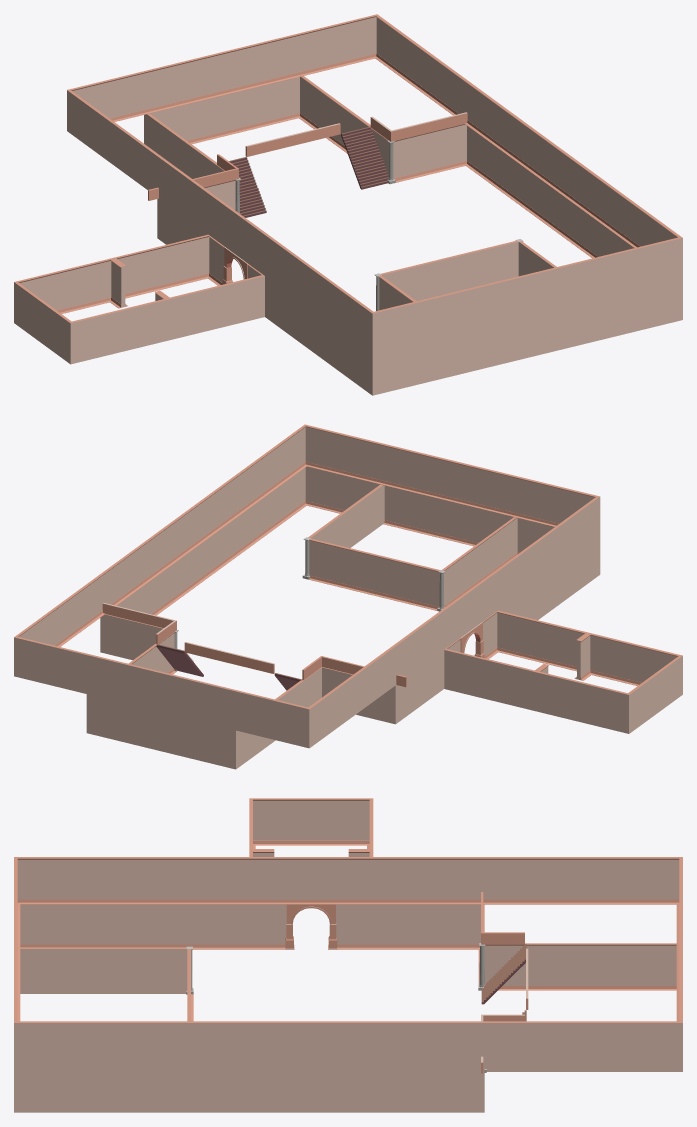
File: GalleryWalls.glb
The picture shows the model from 3 angles, top to bottom: view 1: azimuth 30°, elevation 25°; view 2: azimuth 150°, elevation 25°; view 3: azimuth 270°, elevation 25°; orthographic projection. The views are drawn at different scales.
Parts seen in each view (by area): view 1: Stairs3.001, WallBig1.167, WallBig1.085, WallBig1.012, WallBigCorner1.007, WallBigCorner1.006, WallBigCorner1.014, WallBigCorner1.011, WallBigCorner1.012, WallBigCorner1.009, WallBigCorner1.004, Railing2.009 (+73 smaller); view 2: WallBigCorner1.013, WallBig1.167, WallBig1.085, WallBig1.010, WallBigCorner1.008, WallBigCorner1.005, WallBigCorner1.010, WallBig1.012, Railing2.005, Railing2.009, WallBigCorner1.002, WallBigCorner1.006 (+78 smaller); view 3: WallBig1.010, WallBig1.012, WallBig1.020, WallBig1.066, WallBig1.067, WallBig1.144, WallBig1.145, WallBig1.148, WallBig1.151, WallBig1.152, WallBig1.155, WallBig1.158 (+99 smaller).
Boxes of the visible parts, x1=… form: Stairs3.001: x1=341, y1=126, x2=388, y2=189; WallBig1.167: x1=645, y1=229, x2=682, y2=287; WallBig1.085: x1=647, y1=279, x2=682, y2=328; WallBig1.012: x1=191, y1=231, x2=224, y2=285; WallBigCorner1.007: x1=59, y1=314, x2=90, y2=364; WallBigCorner1.006: x1=93, y1=258, x2=123, y2=308; WallBigCorner1.014: x1=361, y1=305, x2=391, y2=354; WallBigCorner1.011: x1=361, y1=347, x2=391, y2=395; WallBigCorner1.012: x1=358, y1=14, x2=388, y2=64; WallBigCorner1.009: x1=282, y1=76, x2=311, y2=123; WallBigCorner1.004: x1=449, y1=124, x2=477, y2=171; Railing2.009: x1=370, y1=112, x2=467, y2=141; WallBigCorner1.013: x1=275, y1=700, x2=320, y2=748; WallBig1.167: x1=294, y1=424, x2=338, y2=473; WallBig1.085: x1=296, y1=466, x2=337, y2=512; WallBig1.010: x1=482, y1=607, x2=514, y2=659; WallBigCorner1.008: x1=610, y1=686, x2=639, y2=733; WallBigCorner1.005: x1=579, y1=633, x2=607, y2=680; WallBigCorner1.010: x1=217, y1=726, x2=246, y2=769; WallBig1.012: x1=438, y1=638, x2=461, y2=692; Railing2.005: x1=184, y1=642, x2=274, y2=673; Railing2.009: x1=102, y1=603, x2=176, y2=644; WallBigCorner1.002: x1=377, y1=685, x2=406, y2=724; WallBigCorner1.006: x1=535, y1=664, x2=555, y2=715; WallBig1.010: x1=237, y1=904, x2=286, y2=949; WallBig1.012: x1=336, y1=904, x2=385, y2=949; WallBig1.020: x1=323, y1=798, x2=348, y2=845; WallBig1.066: x1=608, y1=943, x2=633, y2=990; WallBig1.067: x1=633, y1=943, x2=658, y2=990; WallBig1.144: x1=608, y1=857, x2=633, y2=904; WallBig1.145: x1=633, y1=857, x2=658, y2=904; WallBig1.148: x1=509, y1=857, x2=534, y2=904; WallBig1.151: x1=484, y1=857, x2=509, y2=904; WallBig1.152: x1=261, y1=857, x2=286, y2=904; WallBig1.155: x1=286, y1=857, x2=311, y2=904; WallBig1.158: x1=410, y1=857, x2=435, y2=904.
Bounding box in the file's own units: 52.63 × 8 × 54.
Materials: 240 (240 with a texture image).
